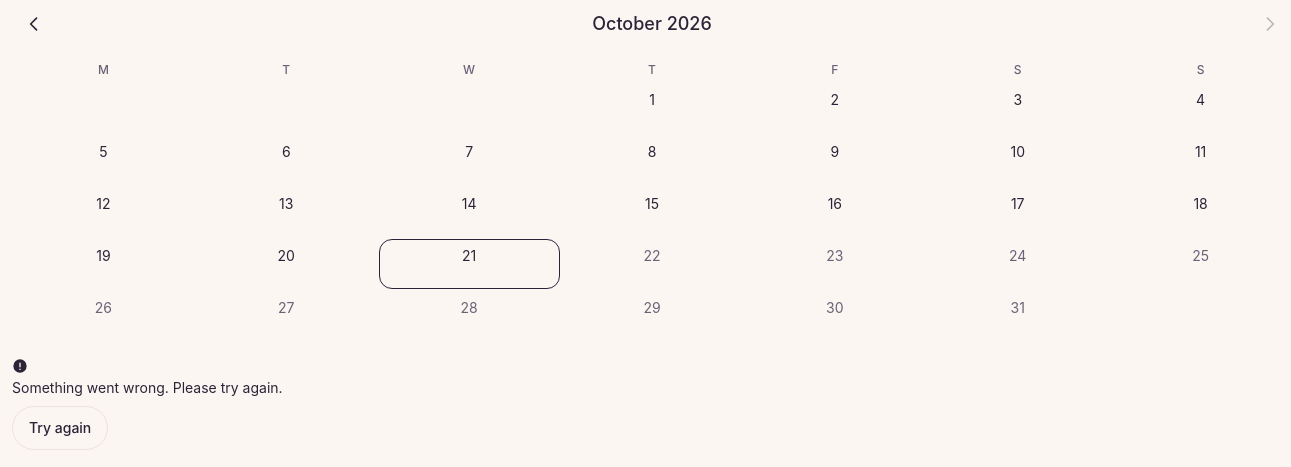
Test: MonthCalendar (1.1 M) › a failed month: the error and a Try again that asks again
This screenshot has width=1291, height=467.
Expected: the message shows "Something went wrong. Please try again.", [12,379,283,396]
Click the button "Try again": (60, 428) [12,406,108,450]
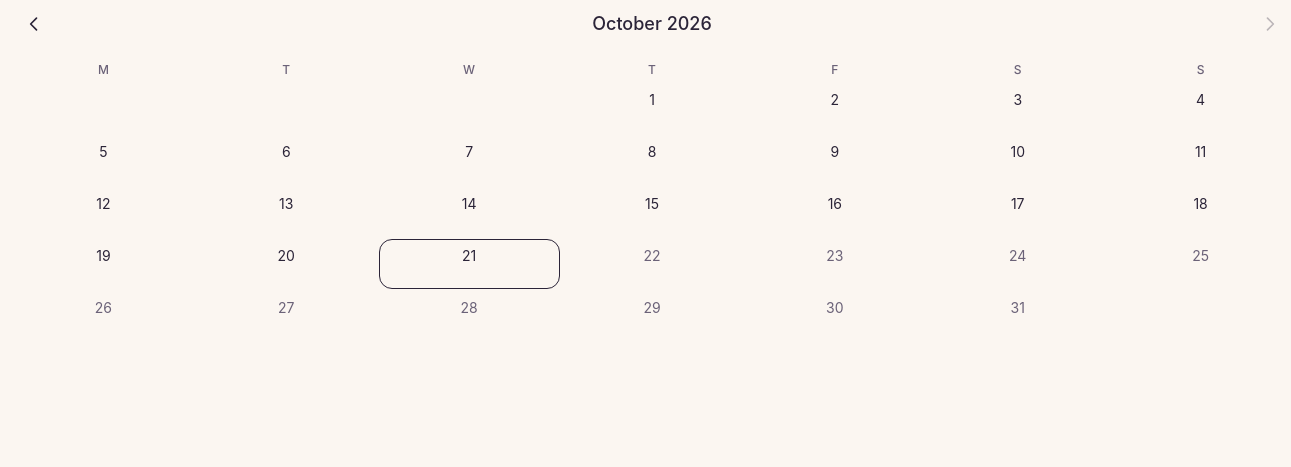
Expected: the message "Something went wrong. Please try again. Try again" is gone
